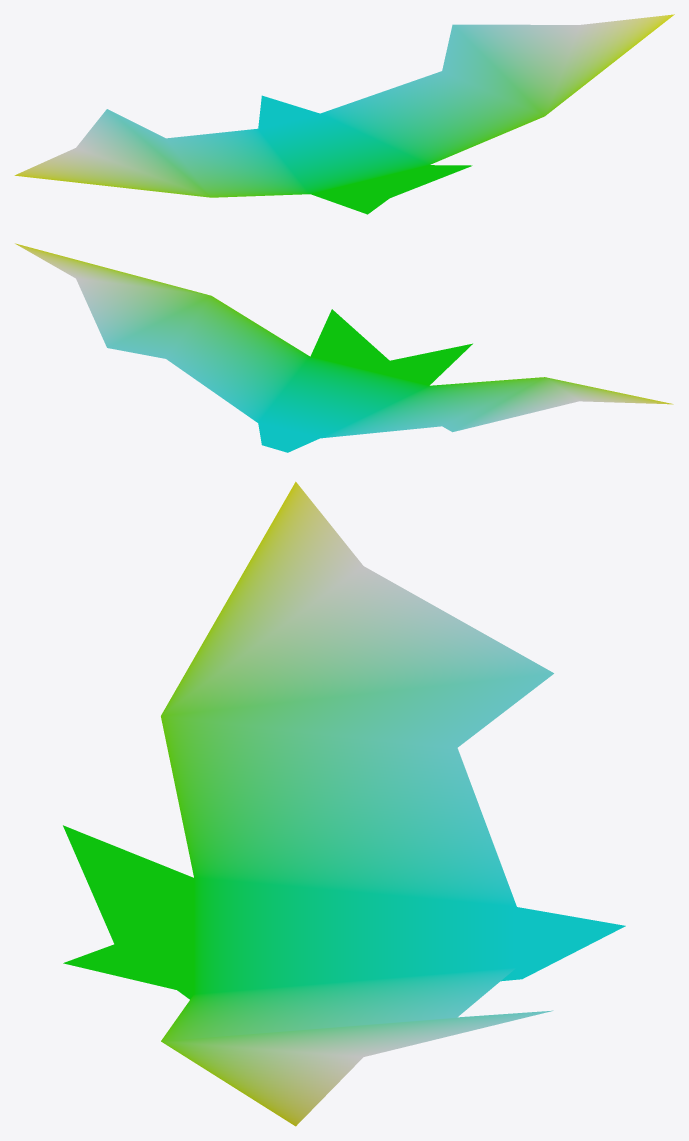
Rendered from bat.fbx.
3 views of the same model, one above another, from view 1: azimuth 30°, elevation 25°; view 2: azimuth 150°, elevation 25°; view 3: azimuth 270°, elevation 25° (orthographic). The views are drawn at different scales.
Parts seen in each view (by area): view 1: Bat; view 2: Bat; view 3: Bat.
Boxes of the visible parts, left/top/right/bottom form: Bat: left=14, top=14, right=674, bottom=214; Bat: left=15, top=243, right=673, bottom=452; Bat: left=63, top=481, right=625, bottom=1126.
Size of the model in its own units: 0.9608 by 0.1425 by 0.3548.
